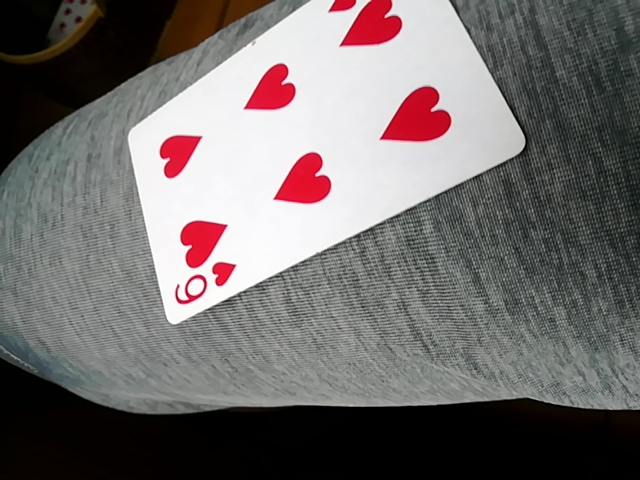hx 6: (132, 0, 531, 328)
